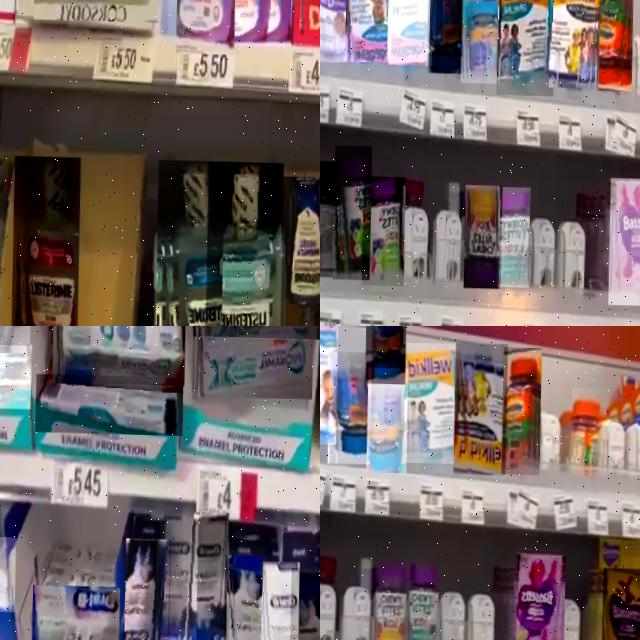Mouthwash: (200, 160, 284, 326), (5, 155, 81, 326), (150, 159, 225, 326), (270, 175, 320, 326)
Other: (450, 342, 509, 476), (401, 342, 456, 464), (329, 145, 373, 280), (499, 347, 543, 475), (154, 513, 198, 640), (119, 537, 172, 640), (325, 351, 372, 464), (358, 176, 406, 286), (187, 512, 228, 640), (28, 584, 119, 640), (364, 367, 409, 474), (604, 177, 640, 307), (512, 554, 565, 640), (461, 185, 504, 289), (252, 561, 299, 640), (219, 555, 262, 640), (568, 388, 609, 477), (497, 187, 530, 288), (598, 568, 640, 640), (404, 561, 442, 640), (371, 561, 409, 640), (363, 326, 407, 384), (284, 571, 320, 640), (320, 160, 341, 277), (320, 326, 339, 445), (320, 552, 342, 640), (0, 535, 15, 612)
Toothpaste: (33, 374, 183, 438), (49, 326, 185, 386), (196, 337, 313, 401), (0, 341, 31, 411), (191, 326, 320, 341)
